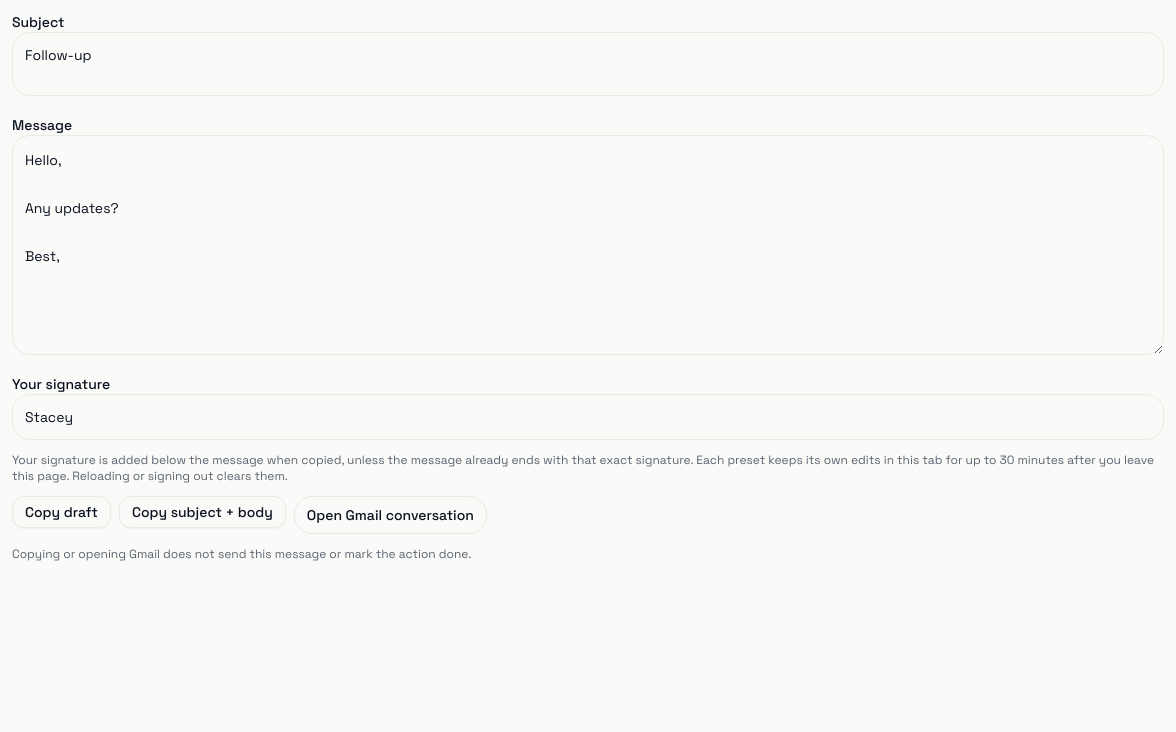
Test: copy success belongs to the preset that was actually copied
Click the button "Copy draft" at (61, 512), box [12,496,111,528]
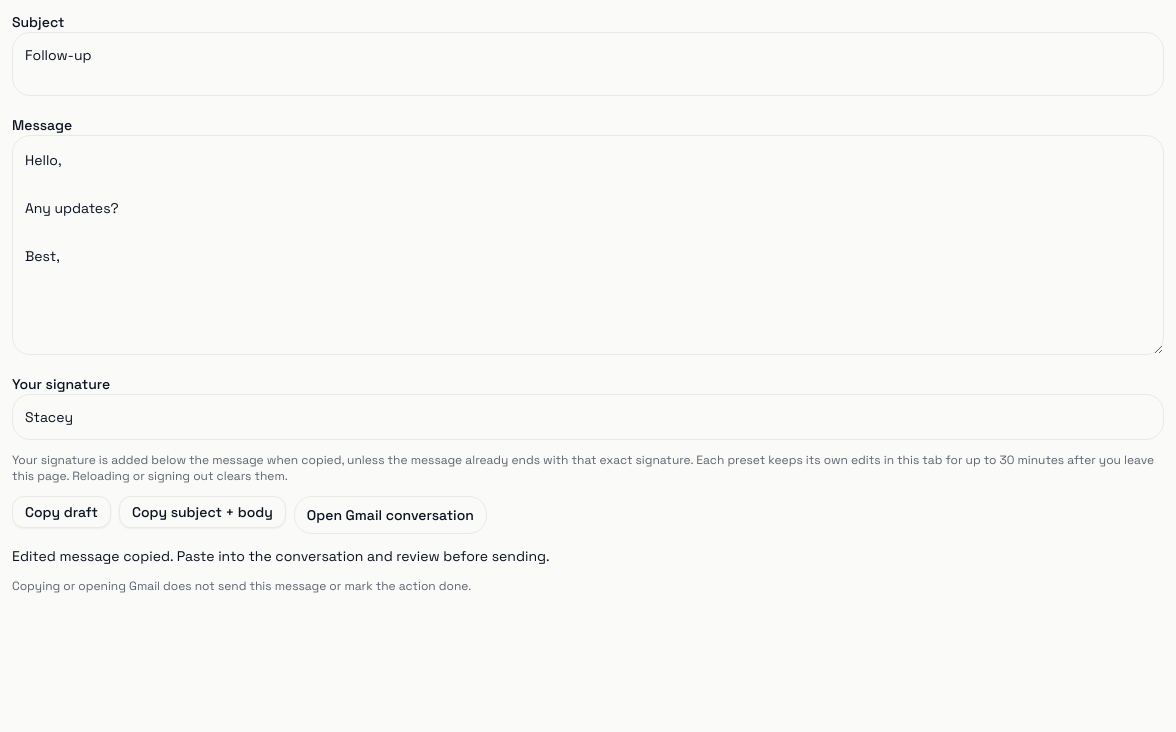
Now the text "Edited message copied. Paste into the conversation and review before sending." is shown, box [12,547,550,565]
